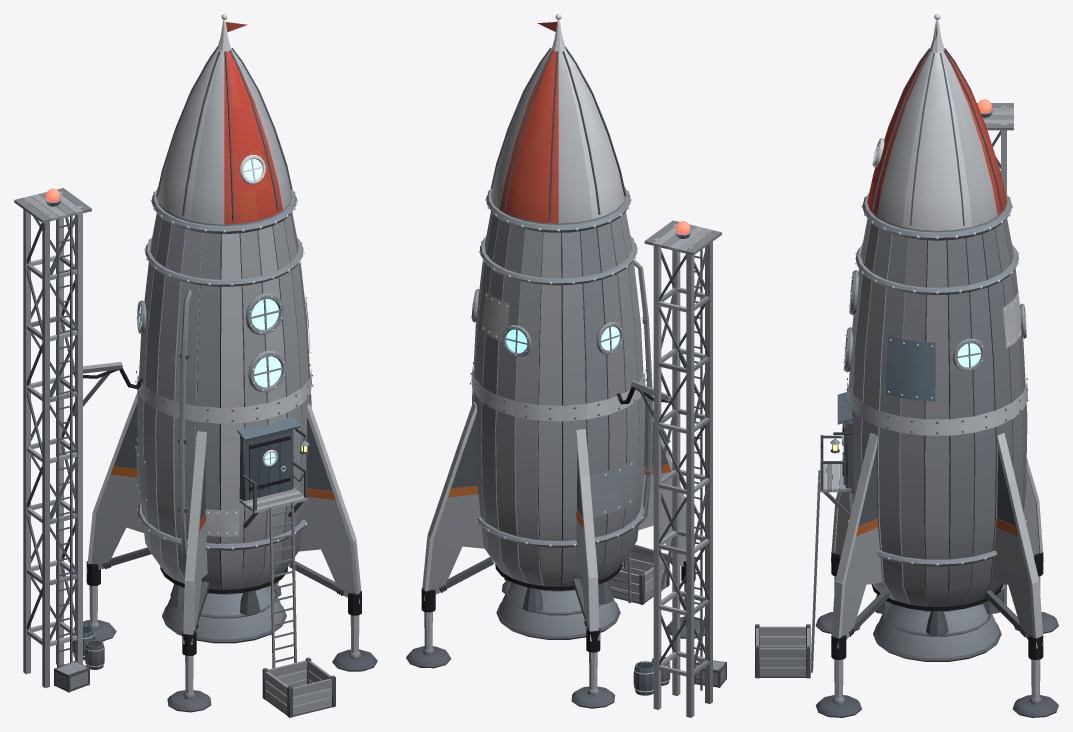
Rendered from rocket.glb.
The picture shows the model from 3 angles, left to right: view 1: azimuth 30°, elevation 25°; view 2: azimuth 150°, elevation 25°; view 3: azimuth 270°, elevation 25°; orthographic projection. The views are drawn at different scales.
Parts seen in each view (by area): view 1: rocket_ship, rocket_gantry; view 2: rocket_ship, rocket_gantry; view 3: rocket_ship, rocket_gantry.
Boxes of the visible parts, bbox=[...] form: rocket_ship: bbox=[73, 14, 377, 717]; rocket_gantry: bbox=[14, 188, 142, 692]; rocket_ship: bbox=[406, 14, 704, 708]; rocket_gantry: bbox=[616, 220, 726, 717]; rocket_ship: bbox=[755, 14, 1058, 717]; rocket_gantry: bbox=[977, 103, 1013, 613].
Size of what is drawn, in the model's own units: 10.39 by 23.15 by 9.64.
